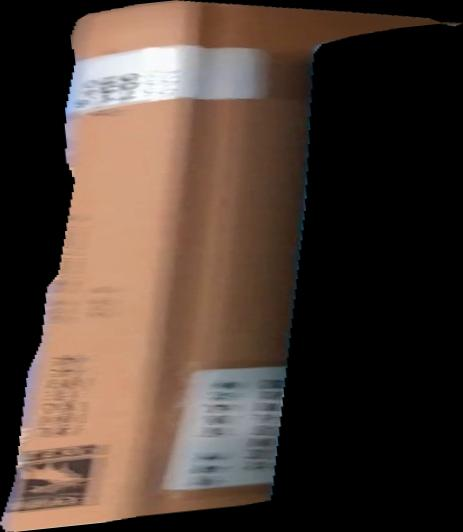reverse: (1, 1, 463, 532)
